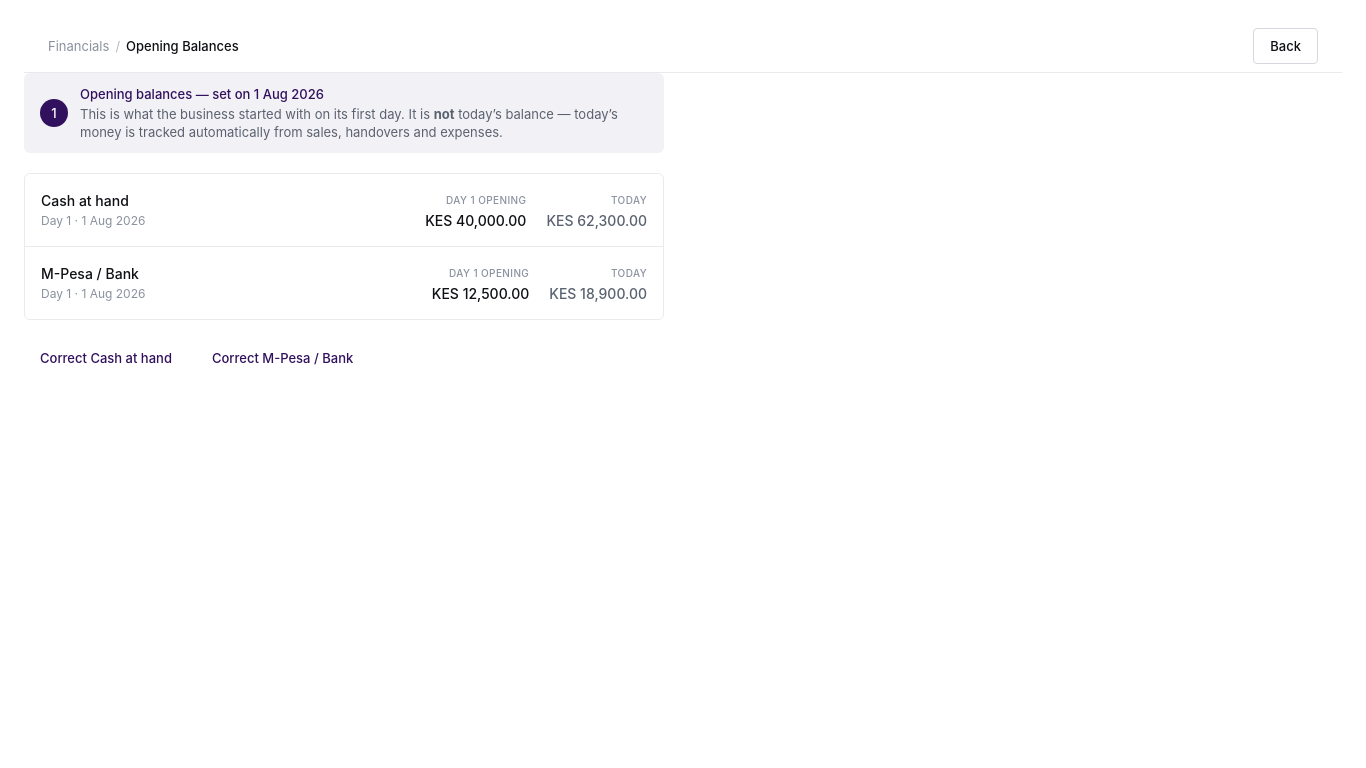
/admin/financials/opening — the correction drawer › leads with the warning before the field
This screenshot has width=1366, height=768.
Click the button "Correct Cash at hand": (106, 358) [24, 340, 188, 376]
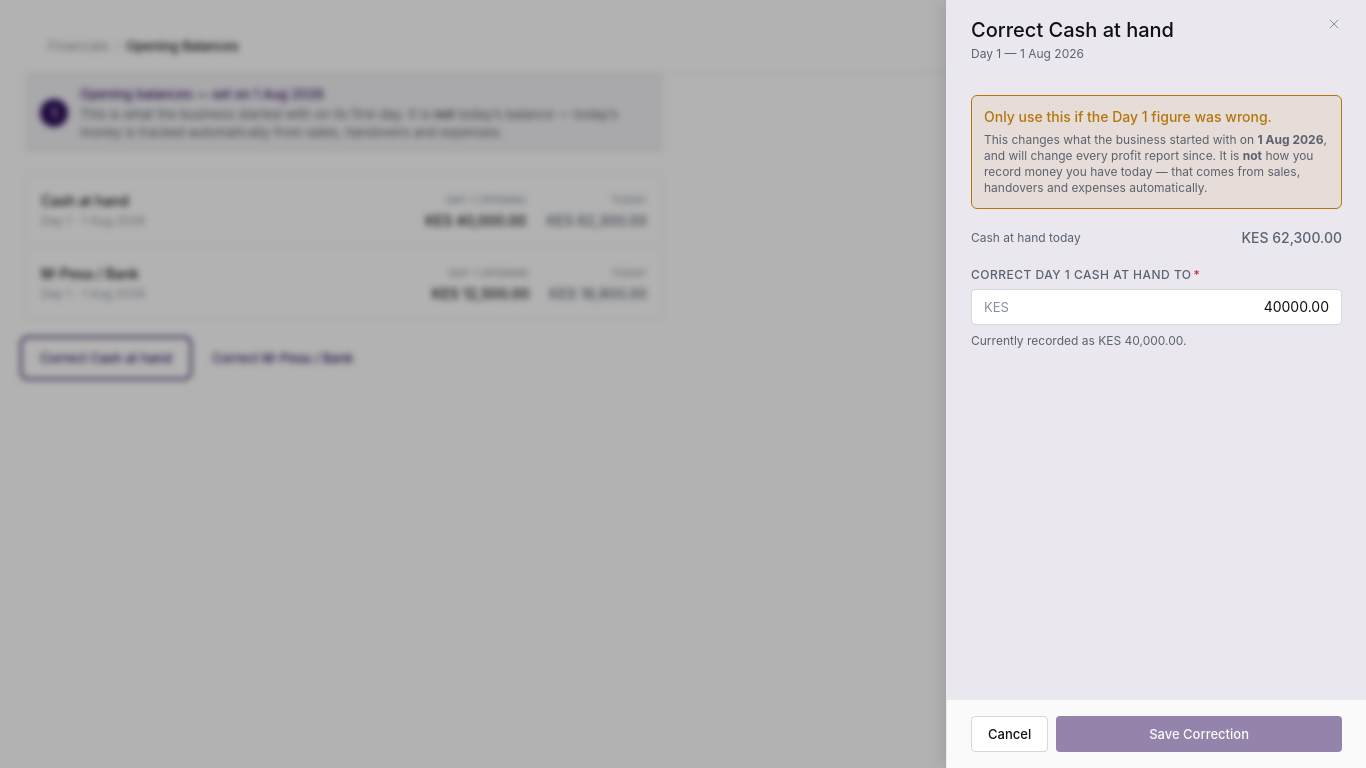
Now the text "Only use this if the Day 1 figure was wrong." is shown, box [984, 108, 1272, 125]
Now the text "will change every profit report since" is shown, box [984, 132, 1327, 163]
